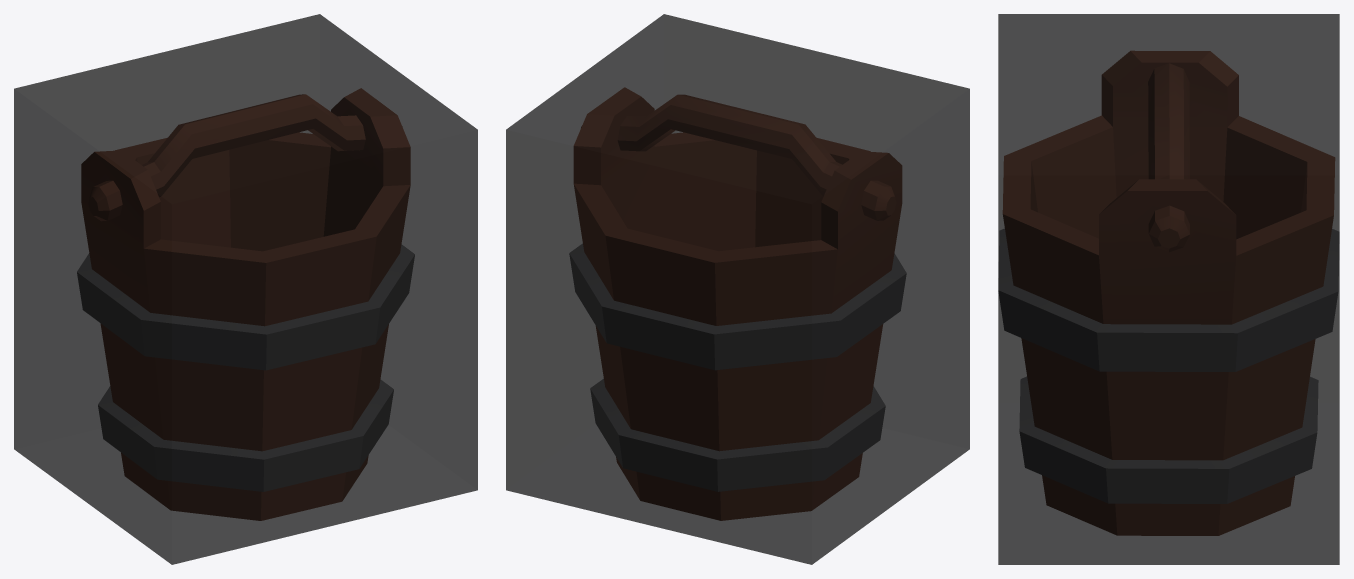
File: Bucket_Empty.fbx
3 renders of one model, left to right at view 1: azimuth 30°, elevation 25°; view 2: azimuth 150°, elevation 25°; view 3: azimuth 270°, elevation 25°, orthographic. The views are drawn at different scales.
Parts seen in each view (by area): view 1: Bucket_Empty_BBox, Bucket_Empty; view 2: Bucket_Empty_BBox, Bucket_Empty; view 3: Bucket_Empty_BBox, Bucket_Empty.
Part boxes in pixels (x1=…): Bucket_Empty_BBox: x1=14, y1=14, x2=477, y2=564; Bucket_Empty: x1=77, y1=88, x2=414, y2=520; Bucket_Empty_BBox: x1=506, y1=14, x2=969, y2=564; Bucket_Empty: x1=569, y1=87, x2=906, y2=520; Bucket_Empty_BBox: x1=998, y1=14, x2=1339, y2=564; Bucket_Empty: x1=998, y1=50, x2=1339, y2=535.
Bounding box in the file's own units: 1.15 × 1.3 × 1.03.
